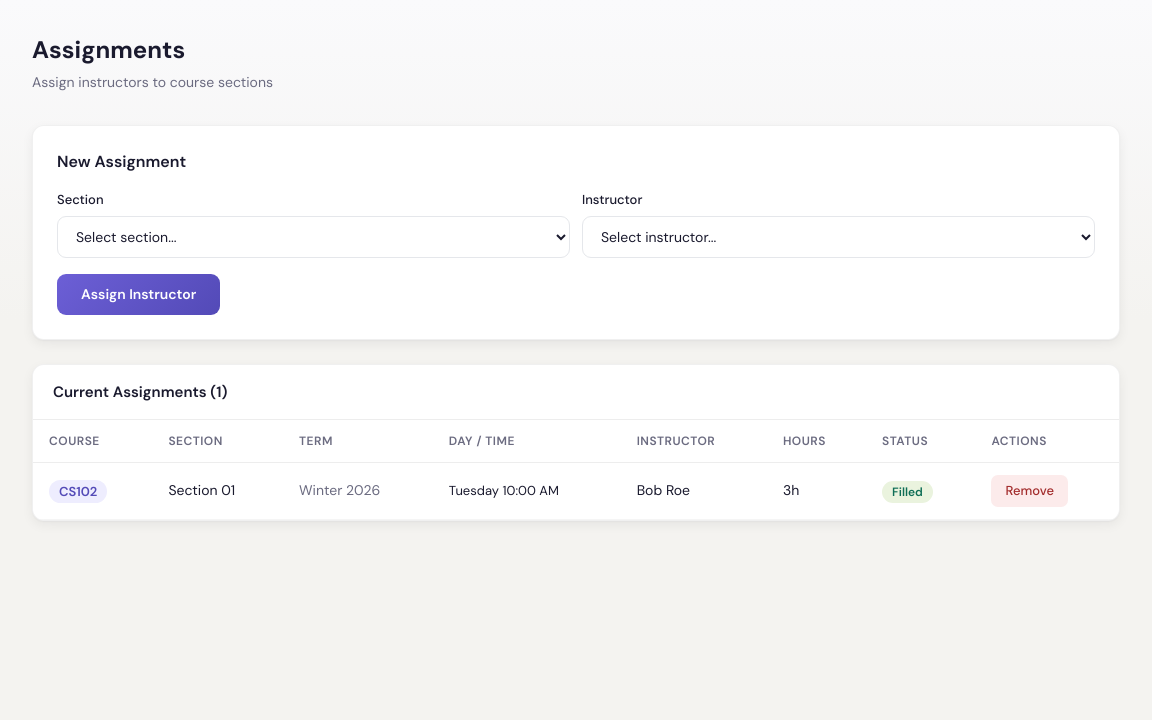
Test: AdminAssignments › assigns an instructor, logs it, notifies them, and refreshes
expect the heading "Current Assignments (1)" is shown: met, box left=53, top=380, right=227, bottom=403
Select "CS101 — Section 01 (3h, Monday 9:00 AM)" in the dropdown labelled "Section" at point(314, 236), box left=57, top=216, right=570, bottom=258
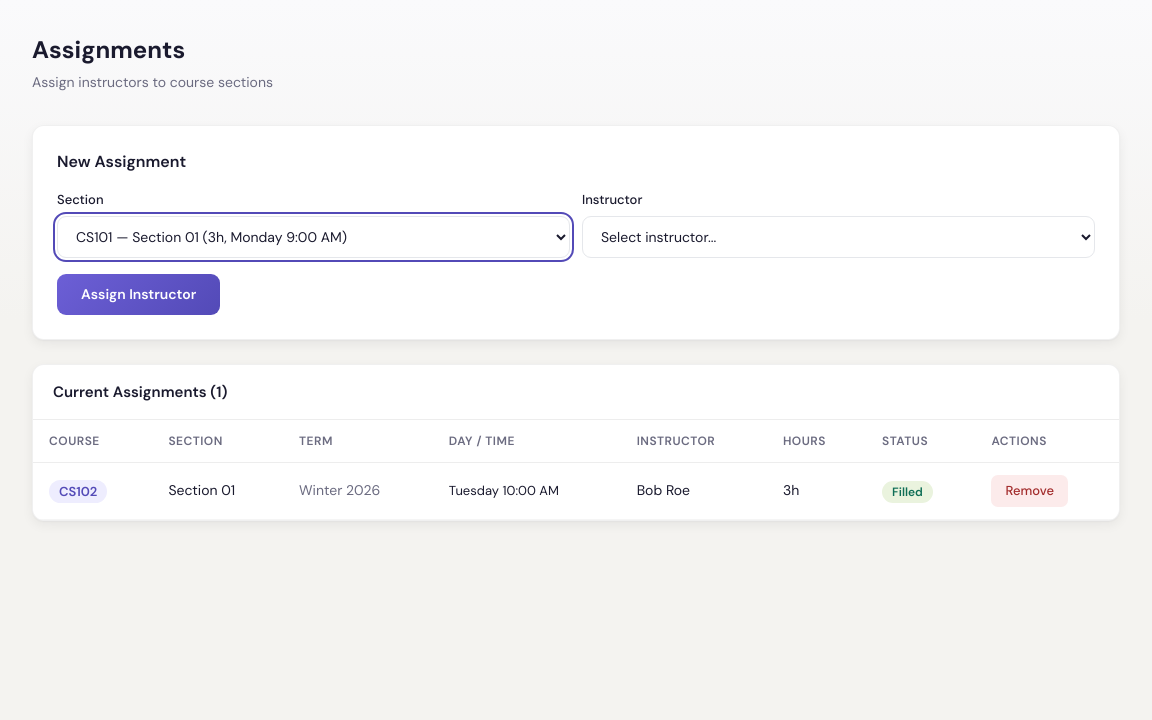
Select "Jane Doe (0/40h used)" in the dropdown labelled "Instructor" at point(838, 236), box left=582, top=216, right=1095, bottom=258
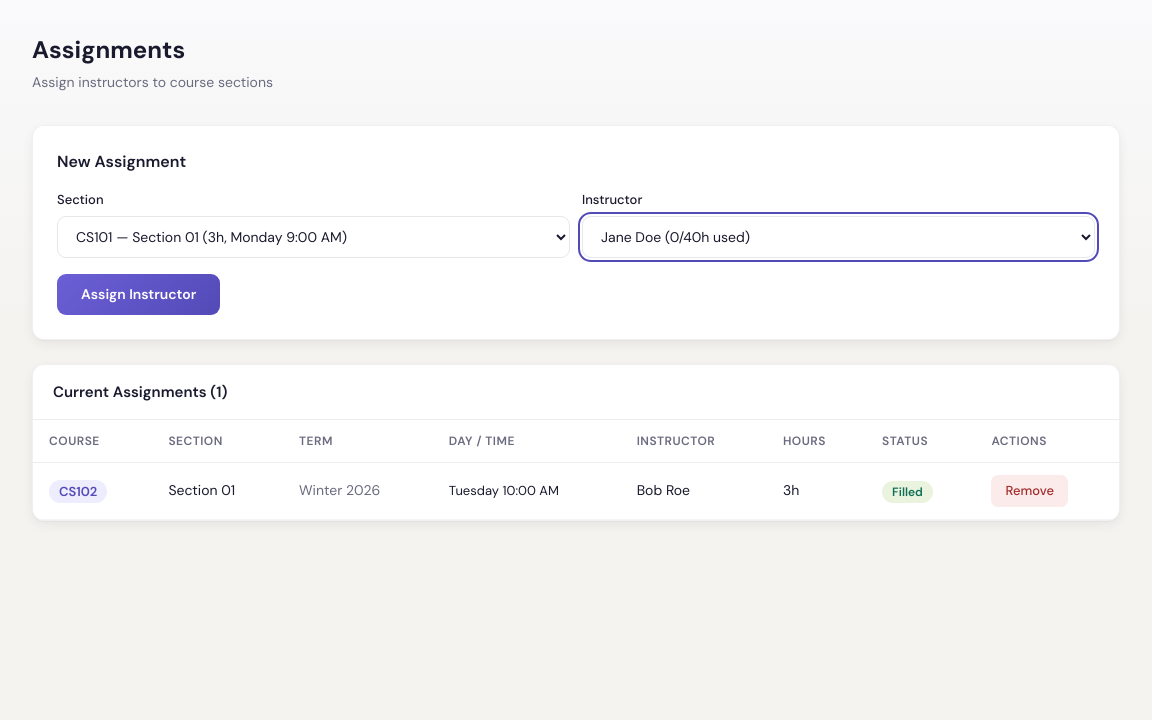
Click the button "Assign Instructor" at point(139, 294), box left=57, top=274, right=220, bottom=314
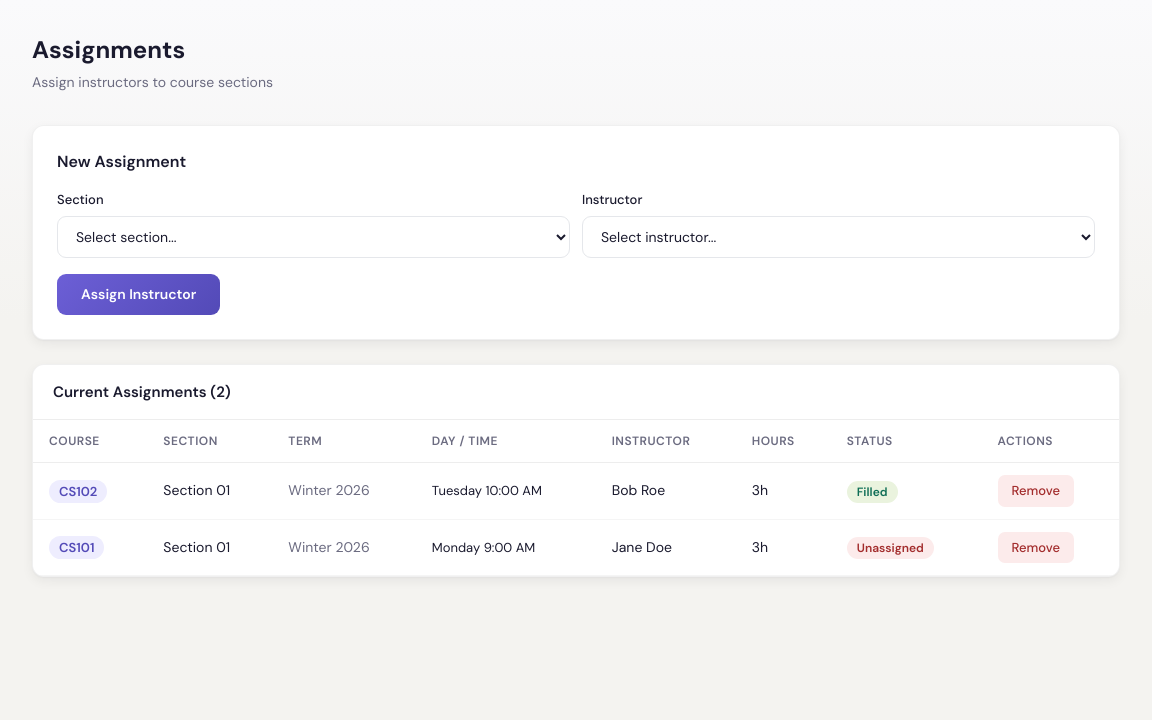
expect the heading "Current Assignments (2)" is shown: met, box left=53, top=380, right=231, bottom=403
